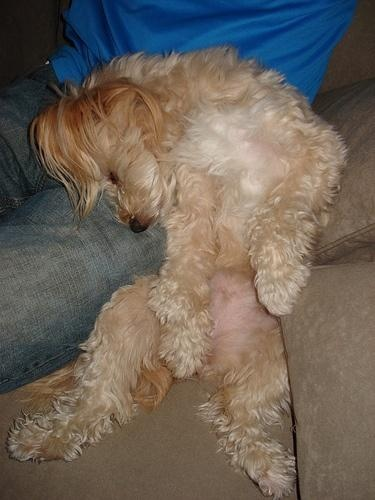dog: (25, 62, 343, 493)
